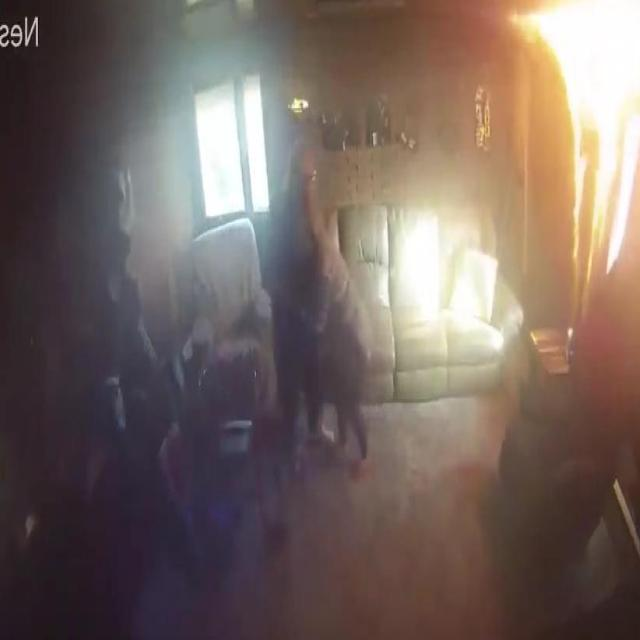smoke: (511, 0, 640, 287)
